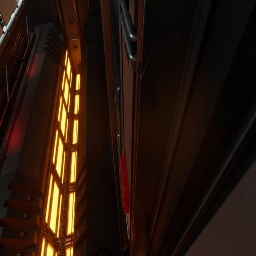FireAlarm ,: (120, 153, 130, 213)
